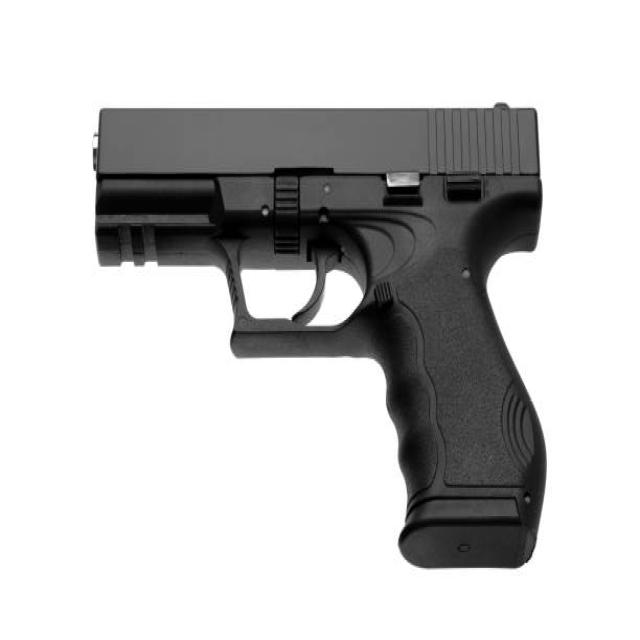pistol: (84, 90, 567, 587)
